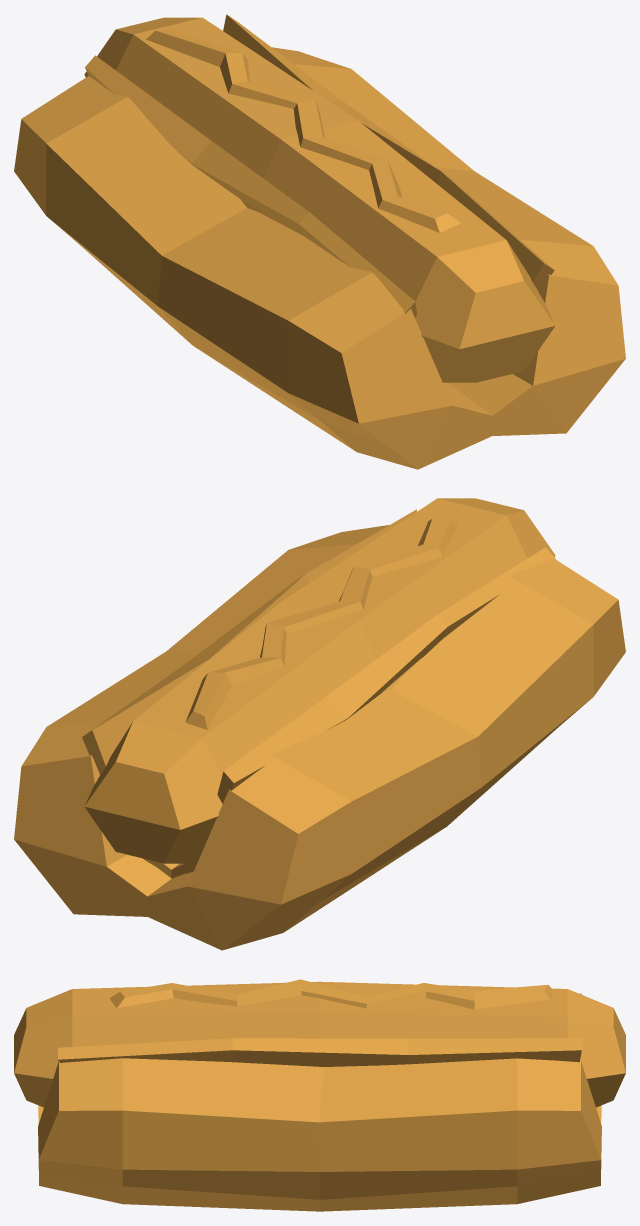
The model's file is hotdog.fbx.
The picture shows the model from 3 angles, top to bottom: view 1: azimuth 30°, elevation 25°; view 2: azimuth 150°, elevation 25°; view 3: azimuth 270°, elevation 25°; orthographic projection. The views are drawn at different scales.
Parts seen in each view (by area): view 1: hotdog; view 2: hotdog; view 3: hotdog.
Part boxes in pixels (<box>): hotdog: <box>14,14,625,469</box>; hotdog: <box>14,498,625,950</box>; hotdog: <box>14,979,625,1211</box>.
Size of the model in its own units: 0.1071 by 0.0736 by 0.2172.
